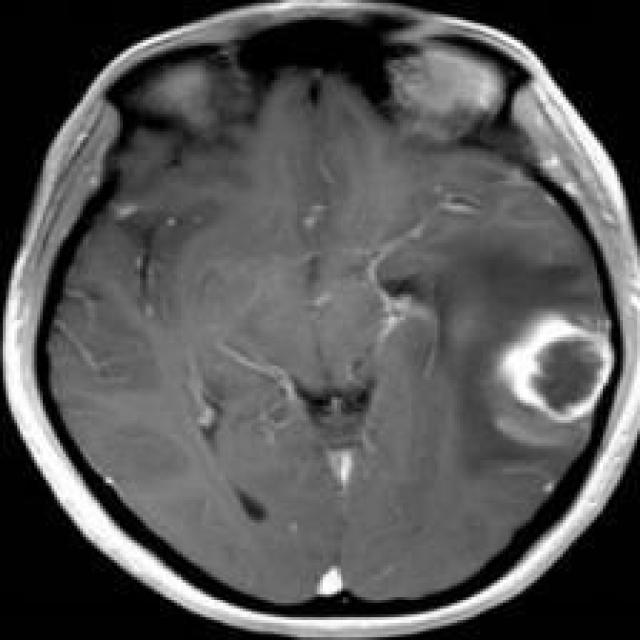Tumor: (500, 317, 614, 426)
